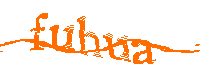a: (131, 38, 154, 66)
f: (30, 11, 48, 51)
h: (77, 14, 103, 60)
u: (104, 35, 131, 62), (51, 24, 75, 54)
